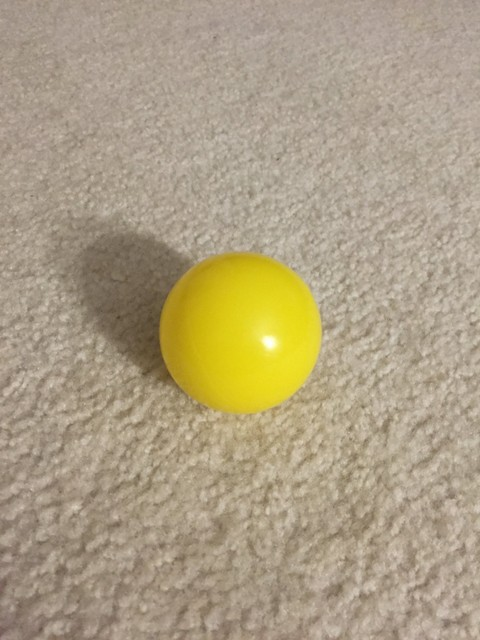ball: (156, 248, 323, 412)
